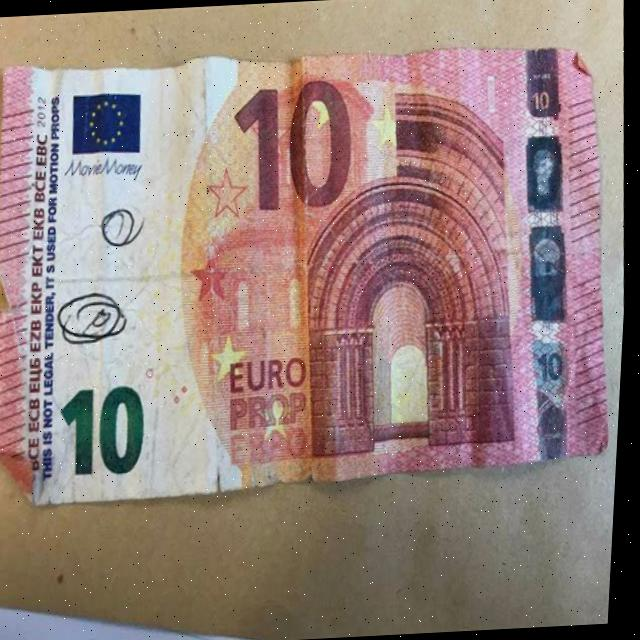banknote: (0, 21, 629, 507), (217, 67, 368, 226), (57, 371, 164, 482), (529, 338, 578, 388), (523, 80, 565, 122)
